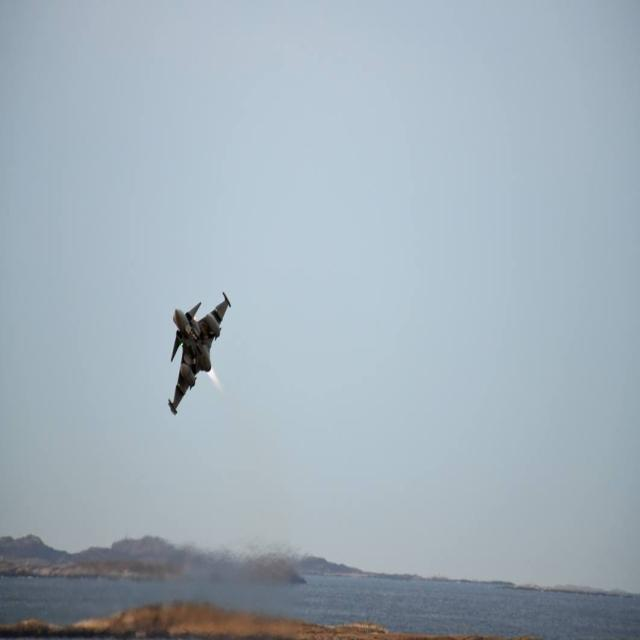MIL_Plane: (168, 290, 232, 416)
